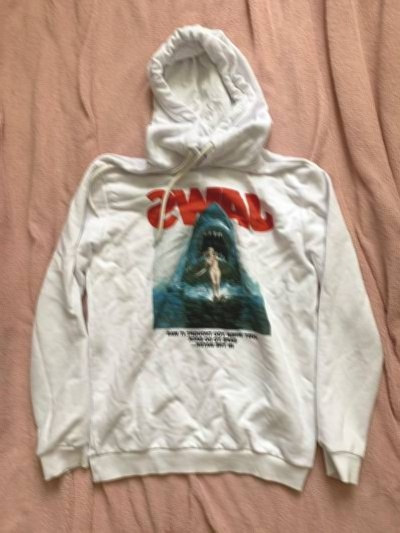Hoodie: (17, 27, 377, 501)
